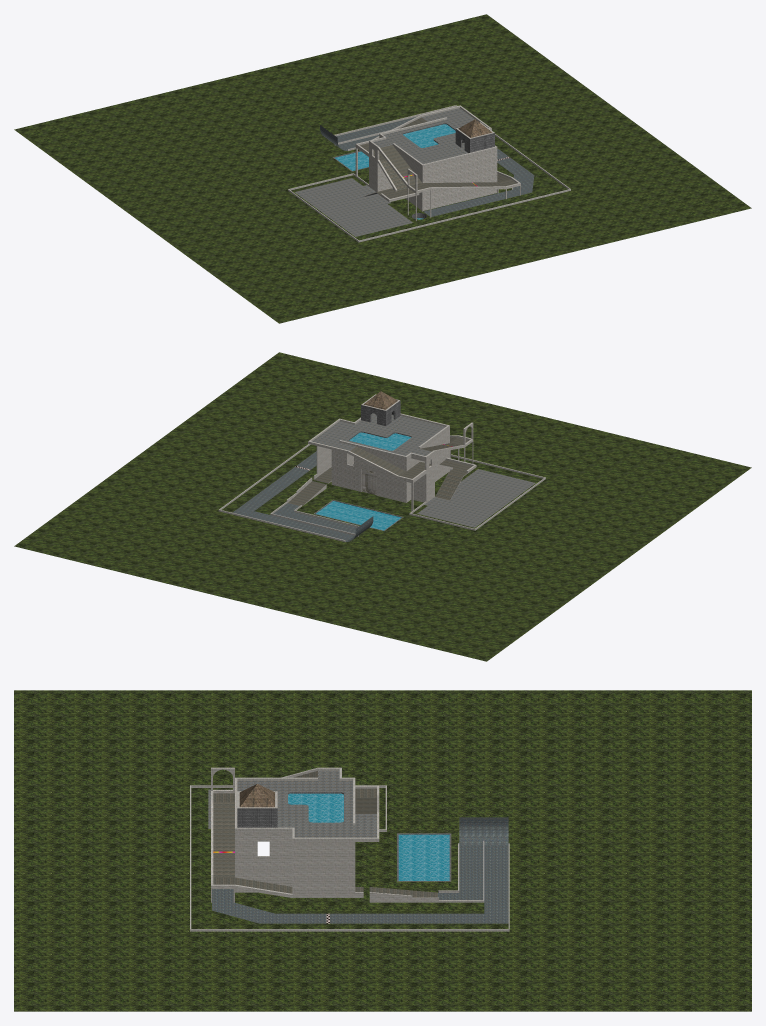
The picture shows the model from 3 angles, top to bottom: view 1: azimuth 30°, elevation 25°; view 2: azimuth 150°, elevation 25°; view 3: azimuth 270°, elevation 25°; orthographic projection. The views are drawn at different scales.
Visible parts, largest first — view 1: little_villa_2k17_Main-grass_offroad.001, little_villa_2k17_Main-mur_villa.001, little_villa_2k17_Main-road1.001, little_villa_2k17_Main-road.001, little_villa_2k17_Main-woodroad.001, little_villa_2k17_Main-water.001, little_villa_2k17_Main-mur2.001; view 2: little_villa_2k17_Main-grass_offroad.001, little_villa_2k17_Main-mur_villa.001, little_villa_2k17_Main-road1.001, little_villa_2k17_Main-road.001, little_villa_2k17_Main-woodroad.001, little_villa_2k17_Main-water.001, little_villa_2k17_Main-mur2.001; view 3: little_villa_2k17_Main-grass_offroad.001, little_villa_2k17_Main-mur_villa.001, little_villa_2k17_Main-road.001, little_villa_2k17_Main-road1.001, little_villa_2k17_Main-water.001, little_villa_2k17_Main-woodroad.001, little_villa_2k17_Main-mur2.001, little_villa_2k17_Main-roof.001.
Boxes of the visible parts, x1=… form: little_villa_2k17_Main-grass_offroad.001: x1=14, y1=14, x2=751, y2=323; little_villa_2k17_Main-mur_villa.001: x1=288, y1=105, x2=570, y2=242; little_villa_2k17_Main-road1.001: x1=294, y1=108, x2=474, y2=236; little_villa_2k17_Main-road.001: x1=320, y1=116, x2=534, y2=216; little_villa_2k17_Main-woodroad.001: x1=360, y1=117, x2=516, y2=198; little_villa_2k17_Main-water.001: x1=335, y1=124, x2=455, y2=219; little_villa_2k17_Main-mur2.001: x1=333, y1=123, x2=494, y2=218; little_villa_2k17_Main-grass_offroad.001: x1=14, y1=352, x2=751, y2=661; little_villa_2k17_Main-mur_villa.001: x1=218, y1=394, x2=545, y2=542; little_villa_2k17_Main-road1.001: x1=312, y1=413, x2=535, y2=527; little_villa_2k17_Main-road.001: x1=233, y1=451, x2=451, y2=541; little_villa_2k17_Main-woodroad.001: x1=288, y1=437, x2=471, y2=505; little_villa_2k17_Main-water.001: x1=316, y1=432, x2=410, y2=530; little_villa_2k17_Main-mur2.001: x1=314, y1=400, x2=411, y2=531; little_villa_2k17_Main-grass_offroad.001: x1=14, y1=690, x2=751, y2=1011; little_villa_2k17_Main-mur_villa.001: x1=190, y1=767, x2=509, y2=931; little_villa_2k17_Main-road.001: x1=212, y1=817, x2=508, y2=923; little_villa_2k17_Main-road1.001: x1=208, y1=770, x2=376, y2=837; little_villa_2k17_Main-water.001: x1=288, y1=793, x2=449, y2=880; little_villa_2k17_Main-woodroad.001: x1=213, y1=771, x2=437, y2=897; little_villa_2k17_Main-mur2.001: x1=237, y1=792, x2=451, y2=881; little_villa_2k17_Main-roof.001: x1=239, y1=784, x2=274, y2=807.
Size of what is drawn, in the model's own units: 110976 by 17181 by 107818.
Materials: 12 (12 with a texture image).
